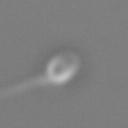normal: (1, 72, 48, 104)
